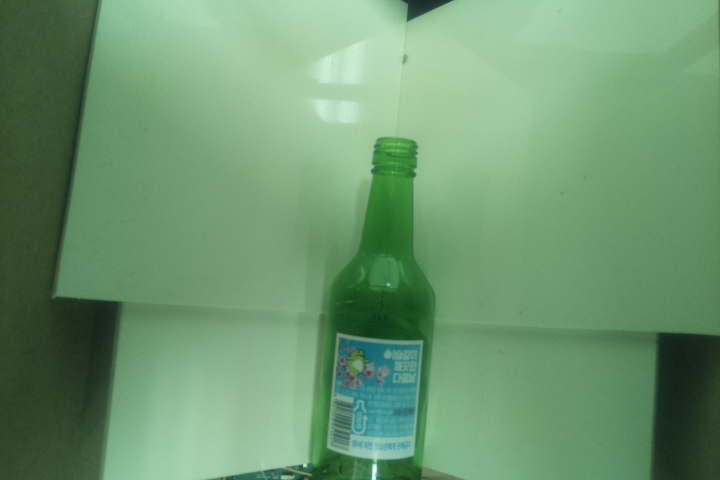soju: (307, 135, 438, 480)
